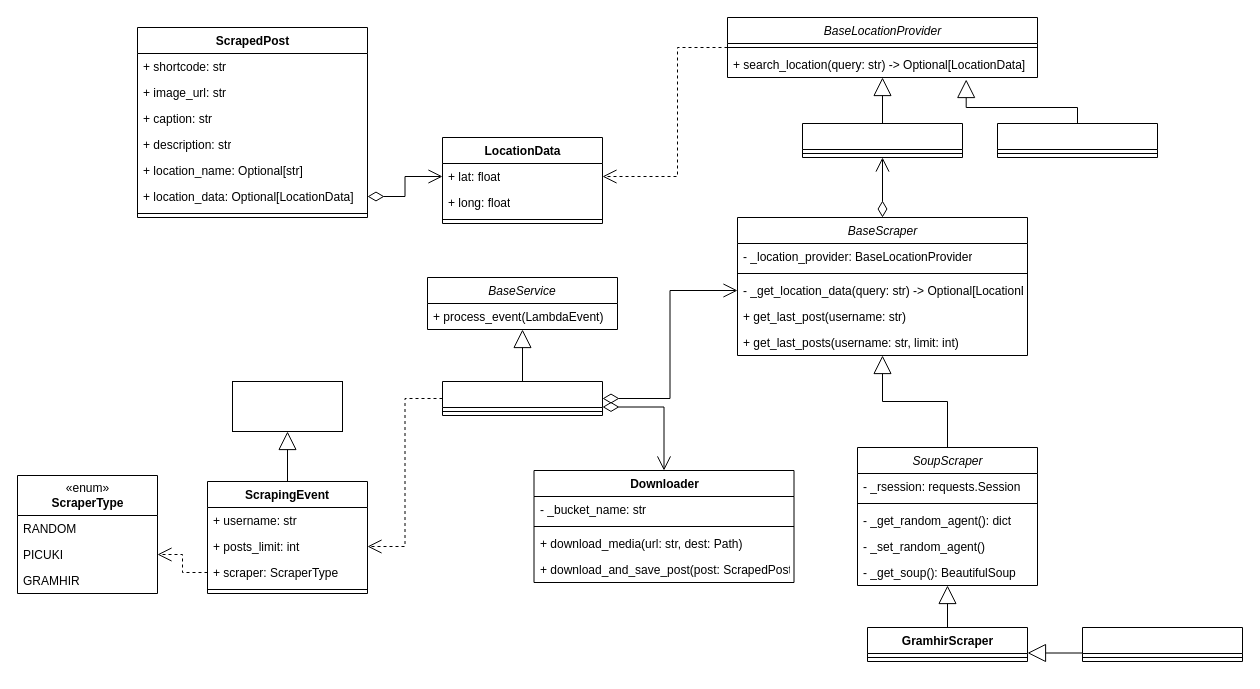
This 1260x689 diagram has some shape labels left out. The centre of each missing label's shape, as x and y in pixels:
AWSLocationProvider: the point at 1077,140
MapsLocationProvider: the point at 882,140
PicukiScraper: the point at 1162,644
ScrapingService: the point at 522,398
«interface» LambdaEvent: the point at 287,406
